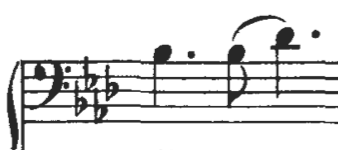bass_clef: (29, 51, 73, 119)
flat: (89, 85, 111, 131), (80, 51, 102, 96), (101, 60, 121, 104), (71, 78, 90, 119)
